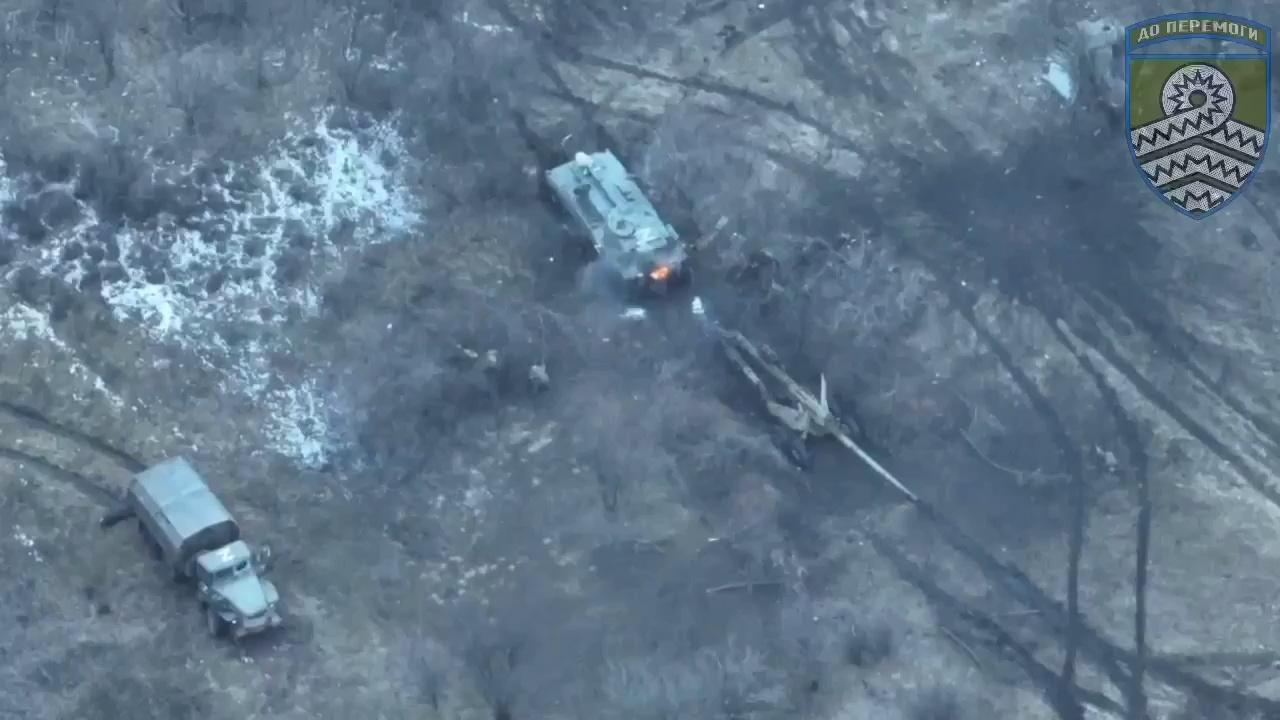person: (528, 364, 550, 391), (486, 350, 498, 373)
vehicle: (705, 321, 920, 502), (127, 453, 286, 635), (542, 148, 694, 297)
